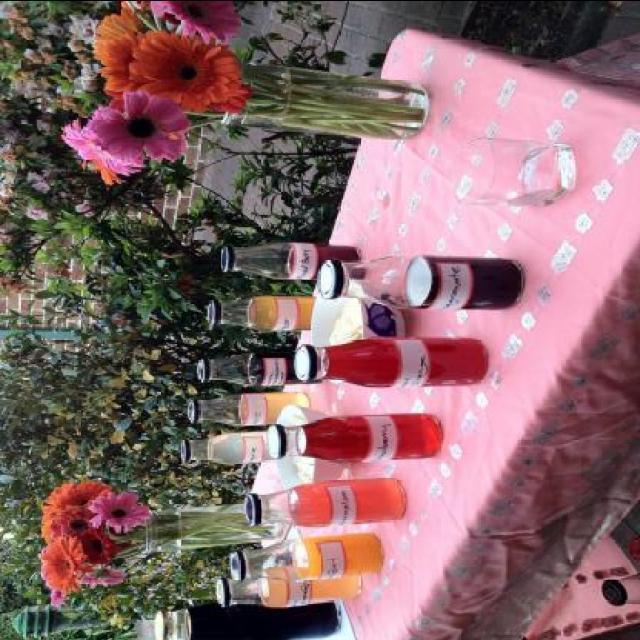Juice: (322, 336, 490, 388), (296, 412, 444, 462), (404, 256, 526, 312), (284, 477, 408, 526), (261, 562, 364, 610), (290, 530, 382, 578), (285, 242, 361, 284), (206, 429, 280, 466), (246, 348, 318, 386), (236, 393, 310, 427), (248, 294, 316, 330)
